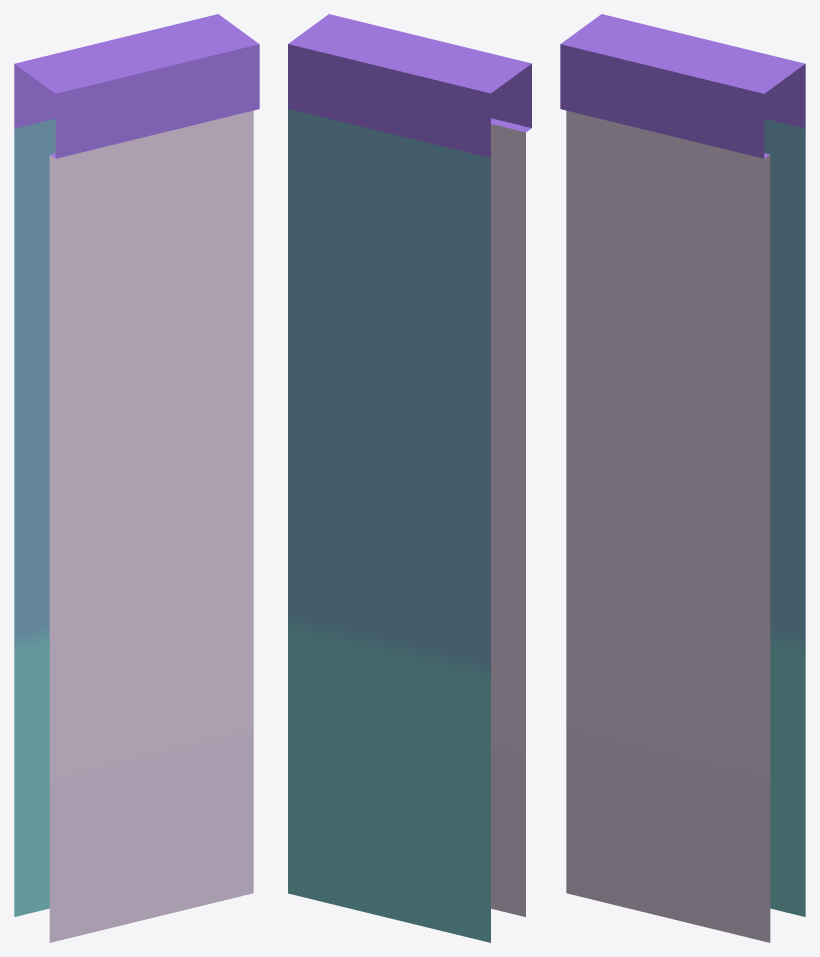
The model's file is wall_S.fbx.
The picture shows the model from 3 angles, left to right: view 1: azimuth 30°, elevation 25°; view 2: azimuth 150°, elevation 25°; view 3: azimuth 330°, elevation 25°; orthographic projection.
Visible parts, largest first — view 1: wall_l; view 2: wall_l; view 3: wall_l.
Boxes of the visible parts, x1,y1,x2,y2 form: wall_l: [14, 14, 259, 942]; wall_l: [288, 14, 531, 942]; wall_l: [560, 14, 805, 942].
Bounding box in the file's own units: 100 × 35 × 400.
